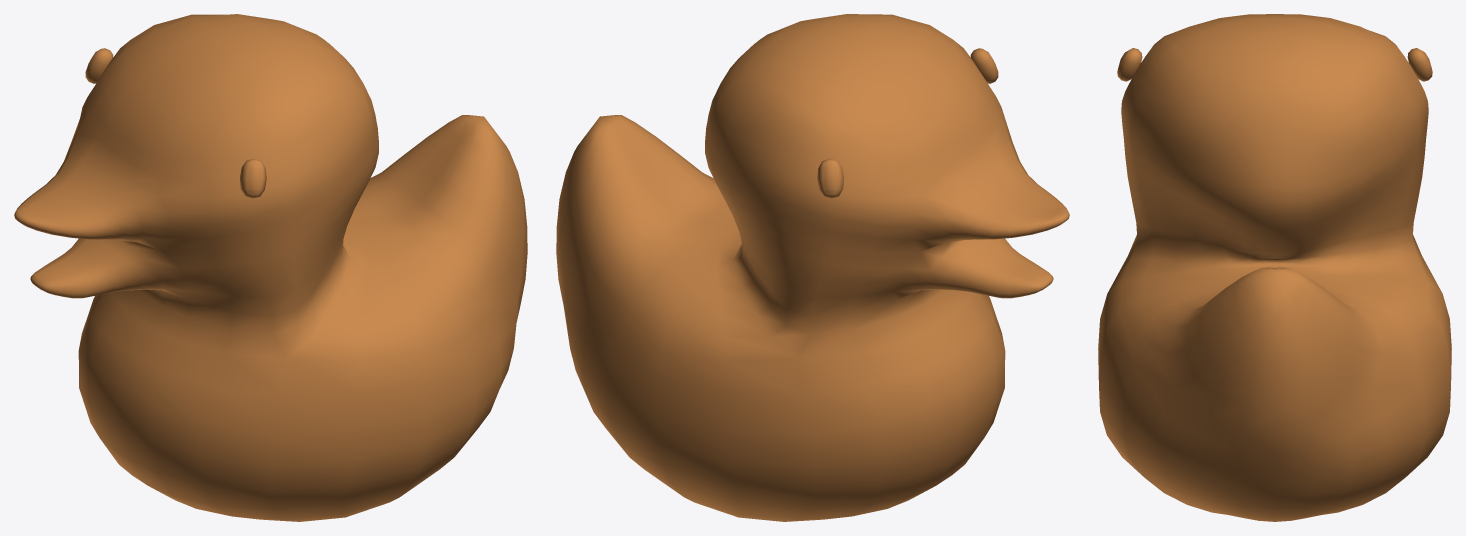
File: GoldDuck.glb
The picture shows the model from 3 angles, left to right: view 1: azimuth 30°, elevation 25°; view 2: azimuth 150°, elevation 25°; view 3: azimuth 270°, elevation 25°; orthographic projection. The views are drawn at different scales.
Parts seen in each view (by area): view 1: GOLD DUCKIE; view 2: GOLD DUCKIE; view 3: GOLD DUCKIE.
Boxes of the visible parts, x1=… form: GOLD DUCKIE: x1=14, y1=14, x2=527, y2=521; GOLD DUCKIE: x1=556, y1=14, x2=1069, y2=521; GOLD DUCKIE: x1=1098, y1=14, x2=1451, y2=521.
Bounding box in the file's own units: 0.7412 × 0.6675 × 0.4795.
1 material, 1 textured.
